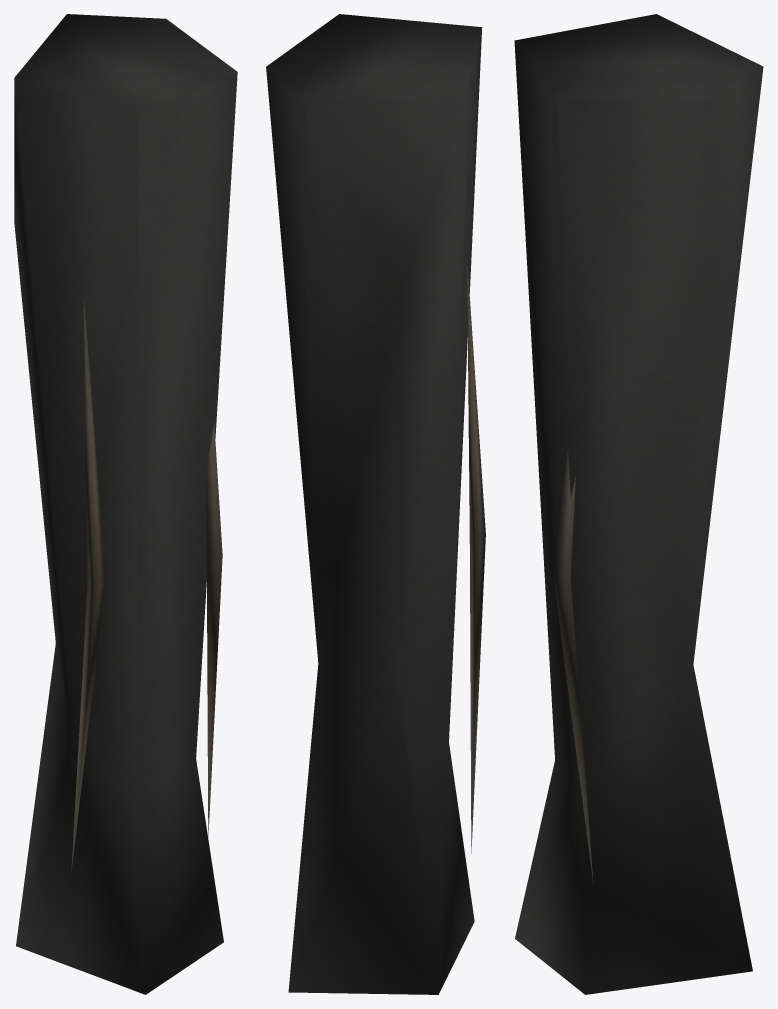
3 renders of one model, left to right at view 1: azimuth 30°, elevation 25°; view 2: azimuth 150°, elevation 25°; view 3: azimuth 270°, elevation 25°, orthographic.
Visible parts, largest first — view 1: agro_fr_low_LOD2; view 2: agro_fr_low_LOD2; view 3: agro_fr_low_LOD2.
Part boxes in pixels (x1=…): agro_fr_low_LOD2: x1=14, y1=14, x2=237, y2=994; agro_fr_low_LOD2: x1=266, y1=14, x2=485, y2=994; agro_fr_low_LOD2: x1=514, y1=14, x2=763, y2=994.
Bounding box in the file's own units: 0.1274 × 0.6147 × 0.1551.
Materials: 2 (2 with a texture image).
